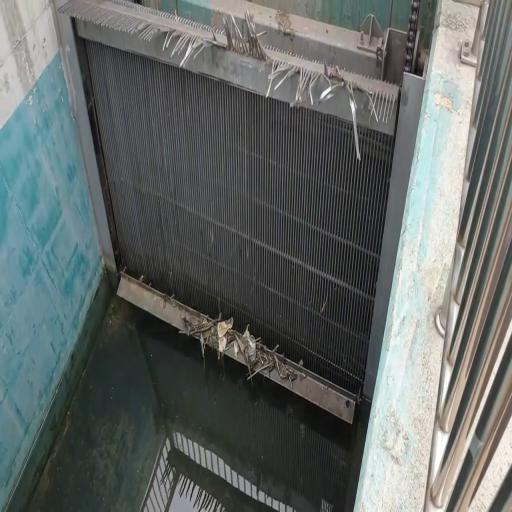rake_broken: (134, 10, 266, 82), (314, 59, 378, 166), (276, 58, 319, 108), (252, 50, 289, 103)
